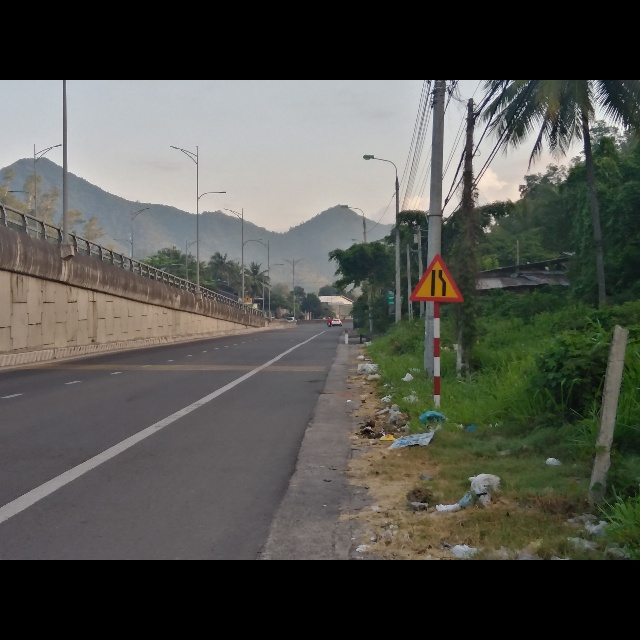Đường bị hẹp bên phải: (409, 254, 465, 302)
